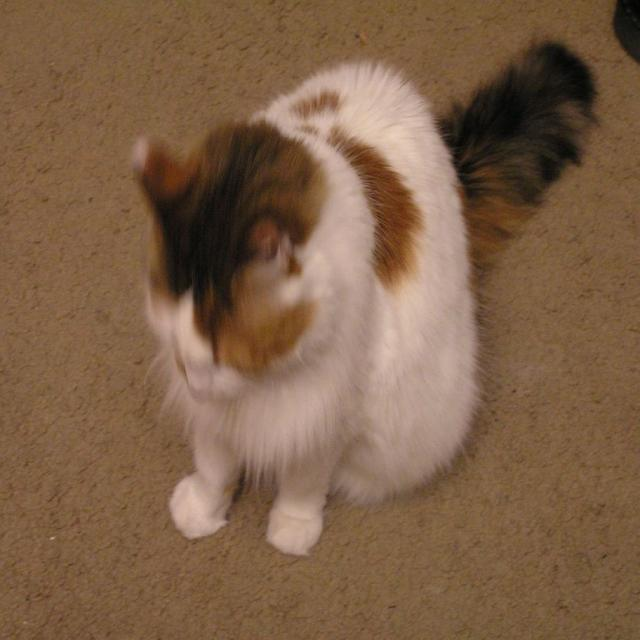Cat: (130, 28, 606, 556)
